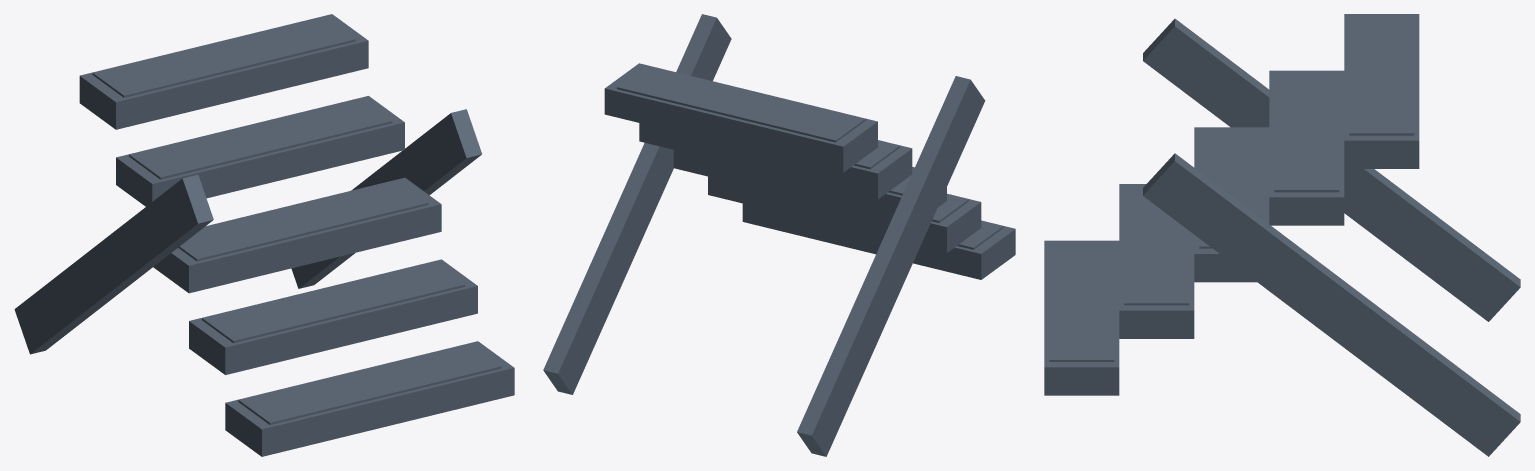
The model's file is Lab_Stairs_A.fbx.
The picture shows the model from 3 angles, left to right: view 1: azimuth 30°, elevation 25°; view 2: azimuth 150°, elevation 25°; view 3: azimuth 270°, elevation 25°; orthographic projection. The views are drawn at different scales.
Visible parts, largest first — view 1: Lab_Staircase_Industrial; view 2: Lab_Staircase_Industrial; view 3: Lab_Staircase_Industrial.
Boxes of the visible parts, x1,y1,x2,y2 form: Lab_Staircase_Industrial: (14,14,514,456); Lab_Staircase_Industrial: (543,14,1015,456); Lab_Staircase_Industrial: (1044,14,1520,456).
Size of the model in its own units: 2.7 by 2.74 by 3.81.
